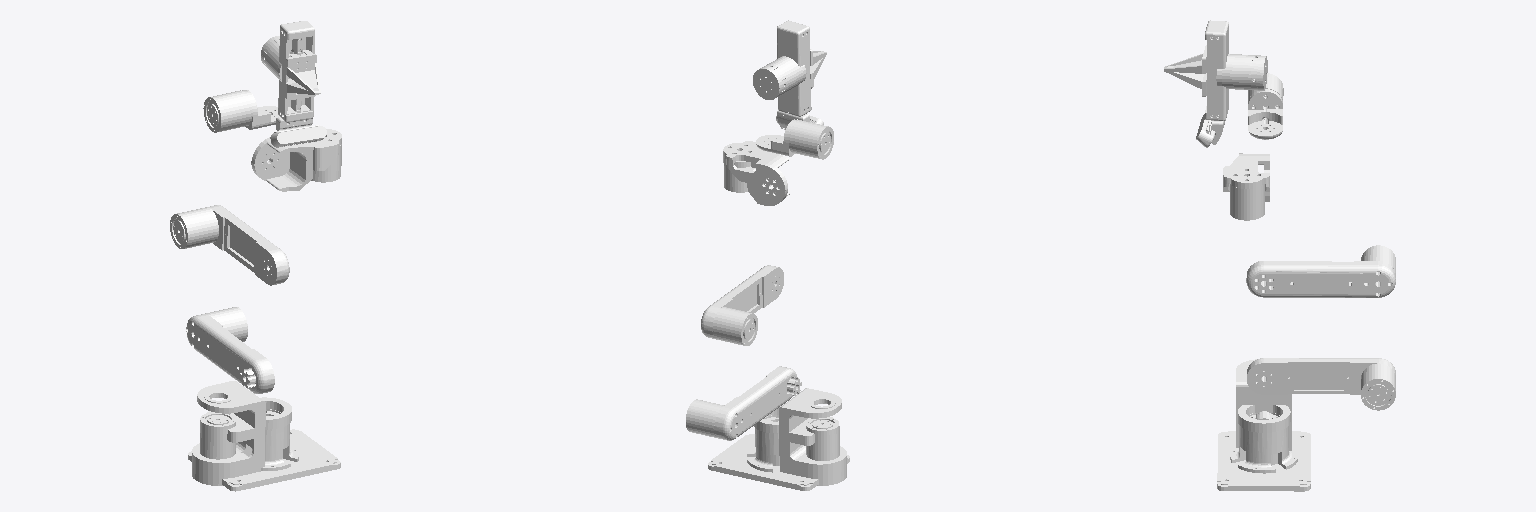
The robot description file, URDF, robot "miku_arm":
<?xml version="1.0" encoding="utf-8"?>
<!-- This URDF was automatically created by SolidWorks to URDF Exporter! Originally created by Stephen Brawner (brawner@gmail.com) 
     Commit Version: 1.6.0-4-g7f85cfe  Build Version: 1.6.7995.38578
     For more information, please see http://wiki.ros.org/sw_urdf_exporter -->
<robot
  name="miku_arm">
  <link
    name="base_link">
    <inertial>
      <origin
        xyz="0.010645 -0.010486 1.5689E-05"
        rpy="0 0 0" />
      <mass
        value="0.65234" />
      <inertia
        ixx="0.00083423"
        ixy="2.0603E-05"
        ixz="-2.48E-06"
        iyy="0.0018578"
        iyz="4.4884E-07"
        izz="0.0012592" />
    </inertial>
    <visual>
      <origin
        xyz="0 0 0"
        rpy="0 0 0" />
      <geometry>
        <mesh
          filename="package://arm_control/meshes/base_link.STL" />
      </geometry>
      <material
        name="">
        <color
          rgba="1 1 1 1" />
      </material>
    </visual>
    <collision>
      <origin
        xyz="0 0 0"
        rpy="0 0 0" />
      <geometry>
        <mesh
          filename="package://arm_control/meshes/base_link.STL" />
      </geometry>
    </collision>
  </link>
  <link
    name="link_1">
    <inertial>
      <origin
        xyz="0.010197 0.067289 0.00068246"
        rpy="0 0 0" />
      <mass
        value="0.69243" />
      <inertia
        ixx="0.00082897"
        ixy="-0.00021255"
        ixz="-1.0958E-05"
        iyy="0.0013747"
        iyz="1.0531E-05"
        izz="0.0014367" />
    </inertial>
    <visual>
      <origin
        xyz="0 0 0"
        rpy="0 0 0" />
      <geometry>
        <mesh
          filename="package://arm_control/meshes/link_1.STL" />
      </geometry>
      <material
        name="">
        <color
          rgba="1 1 1 1" />
      </material>
    </visual>
    <collision>
      <origin
        xyz="0 0 0"
        rpy="0 0 0" />
      <geometry>
        <mesh
          filename="package://arm_control/meshes/link_1.STL" />
      </geometry>
    </collision>
  </link>
  <joint
    name="joint_1"
    type="revolute">
    <origin
      xyz="0.011371 -3.9704E-05 0.025603"
      rpy="1.5507 0.00054808 -1.5767" />
    <parent
      link="base_link" />
    <child
      link="link_1" />
    <axis
      xyz="0 1 0" />
    <limit
      lower="-2.3562"
      upper="2.3562"
      effort="9"
      velocity="2" />
  </joint>
  <link
    name="link_2">
    <inertial>
      <origin
        xyz="0.11068 0.034869 1.069E-08"
        rpy="0 0 0" />
      <mass
        value="0.68644" />
      <inertia
        ixx="0.00023475"
        ixy="1.5737E-05"
        ixz="-6.862E-11"
        iyy="0.0027619"
        iyz="-1.4098E-10"
        izz="0.0026635" />
    </inertial>
    <visual>
      <origin
        xyz="0 0 0"
        rpy="0 0 0" />
      <geometry>
        <mesh
          filename="package://arm_control/meshes/link_2.STL" />
      </geometry>
      <material
        name="">
        <color
          rgba="1 1 1 1" />
      </material>
    </visual>
    <collision>
      <origin
        xyz="0 0 0"
        rpy="0 0 0" />
      <geometry>
        <mesh
          filename="package://arm_control/meshes/link_2.STL" />
      </geometry>
    </collision>
  </link>
  <joint
    name="joint_2"
    type="revolute">
    <origin
      xyz="0 0.08788 0"
      rpy="0 0 1.5708" />
    <parent
      link="link_1" />
    <child
      link="link_2" />
    <axis
      xyz="0 1 0" />
    <limit
      lower="-1.5708"
      upper="1.5708"
      effort="9"
      velocity="2" />
  </joint>
  <link
    name="link_3">
    <inertial>
      <origin
        xyz="0.110053650868383 0.0335164692750554 1.94705920449068E-08"
        rpy="0 0 0" />
      <mass
        value="0.737398995126995" />
      <inertia
        ixx="0.000251131834416106"
        ixy="-1.0602383826204E-06"
        ixz="-6.40044512792178E-11"
        iyy="0.00296672370630292"
        iyz="-2.37049058445746E-10"
        izz="0.00285224309005797" />
    </inertial>
    <visual>
      <origin
        xyz="0 0 0"
        rpy="0 0 0" />
      <geometry>
        <mesh
          filename="package://arm_control/meshes/link_3.STL" />
      </geometry>
      <material
        name="">
        <color
          rgba="1 1 1 1" />
      </material>
    </visual>
    <collision>
      <origin
        xyz="0 0 0"
        rpy="0 0 0" />
      <geometry>
        <mesh
          filename="package://arm_control/meshes/link_3.STL" />
      </geometry>
    </collision>
  </link>
  <joint
    name="joint_3"
    type="revolute">
    <origin
      xyz="0.184 0 0"
      rpy="3.1416 0 0" />
    <parent
      link="link_2" />
    <child
      link="link_3" />
    <axis
      xyz="0 1 0" />
    <limit
      lower="-1.5708"
      upper="1.5708"
      effort="9"
      velocity="2" />
  </joint>
  <link
    name="link_4">
    <inertial>
      <origin
        xyz="0.049628 -0.0075971 0.0074952"
        rpy="0 0 0" />
      <mass
        value="0.60269" />
      <inertia
        ixx="0.00052062"
        ixy="0.00013803"
        ixz="0.00014077"
        iyy="0.00067664"
        iyz="-6.3687E-05"
        izz="0.00068779" />
    </inertial>
    <visual>
      <origin
        xyz="0 0 0"
        rpy="0 0 0" />
      <geometry>
        <mesh
          filename="package://arm_control/meshes/link_4.STL" />
      </geometry>
      <material
        name="">
        <color
          rgba="1 1 1 1" />
      </material>
    </visual>
    <collision>
      <origin
        xyz="0 0 0"
        rpy="0 0 0" />
      <geometry>
        <mesh
          filename="package://arm_control/meshes/link_4.STL" />
      </geometry>
    </collision>
  </link>
  <joint
    name="joint_4"
    type="revolute">
    <origin
      xyz="0.184 0 0"
      rpy="1.5708 0 0" />
    <parent
      link="link_3" />
    <child
      link="link_4" />
    <axis
      xyz="0 0 1" />
    <limit
      lower="-1.5708"
      upper="1.5708"
      effort="9"
      velocity="2" />
  </joint>
  <link
    name="link_5">
    <inertial>
      <origin
        xyz="-0.0603 -0.014918 -1.3904E-09"
        rpy="0 0 0" />
      <mass
        value="0.20932" />
      <inertia
        ixx="8.7973E-05"
        ixy="9.7337E-06"
        ixz="8.3843E-13"
        iyy="0.00010977"
        iyz="-4.0408E-13"
        izz="0.00010465" />
    </inertial>
    <visual>
      <origin
        xyz="0 0 0"
        rpy="0 0 0" />
      <geometry>
        <mesh
          filename="package://arm_control/meshes/link_5.STL" />
      </geometry>
      <material
        name="">
        <color
          rgba="1 1 1 1" />
      </material>
    </visual>
    <collision>
      <origin
        xyz="0 0 0"
        rpy="0 0 0" />
      <geometry>
        <mesh
          filename="package://arm_control/meshes/link_5.STL" />
      </geometry>
    </collision>
  </link>
  <joint
    name="joint_5"
    type="revolute">
    <origin
      xyz="0.0815 0 0.0025"
      rpy="0 0 -3.1416" />
    <parent
      link="link_4" />
    <child
      link="link_5" />
    <axis
      xyz="0 -1 0" />
    <limit
      lower="-1.5708"
      upper="1.5708"
      effort="9"
      velocity="2" />
  </joint>
  <link
    name="link_6">
    <inertial>
      <origin
        xyz="-1.5722E-10 0.016911 -1.5926E-10"
        rpy="0 0 0" />
      <mass
        value="0.027017" />
      <inertia
        ixx="1.0603E-05"
        ixy="8.2392E-15"
        ixz="4.9083E-15"
        iyy="5.8416E-06"
        iyz="5.3079E-14"
        izz="1.0603E-05" />
    </inertial>
    <visual>
      <origin
        xyz="0 0 0"
        rpy="0 0 0" />
      <geometry>
        <mesh
          filename="package://arm_control/meshes/link_6.STL" />
      </geometry>
      <material
        name="">
        <color
          rgba="1 1 1 1" />
      </material>
    </visual>
    <collision>
      <origin
        xyz="0 0 0"
        rpy="0 0 0" />
      <geometry>
        <mesh
          filename="package://arm_control/meshes/link_6.STL" />
      </geometry>
    </collision>
  </link>
  <joint
    name="joint_6"
    type="revolute">
    <origin
      xyz="-0.10372 -0.0105 0"
      rpy="-3.1416 0.11723 -1.5708" />
    <parent
      link="link_5" />
    <child
      link="link_6" />
    <axis
      xyz="0 1 0" />
    <limit
      lower="-2.3562"
      upper="2.3562"
      effort="9"
      velocity="2" />
  </joint>
</robot>

--- Render facts (derived) ---
Views: 3 orthographic renders of the robot side by side, from view 1: azimuth 30°, elevation 25°; view 2: azimuth 150°, elevation 25°; view 3: azimuth 270°, elevation 25°.
Robot: miku_arm — 7 links, 6 joints (6 revolute); root link base_link; default pose: every joint at zero.
Visible links, largest first — view 1: link_1, link_6, link_3, base_link, link_2, link_4, link_5; view 2: link_1, link_6, link_2, link_3, base_link, link_4, link_5; view 3: base_link, link_3, link_2, link_6, link_4, link_5, link_1.
Boxes of the visible links, x1,y1,x2,y2 form: link_1: (192, 381, 265, 485); link_6: (261, 21, 326, 147); link_3: (170, 205, 289, 285); base_link: (188, 397, 340, 491); link_2: (186, 307, 274, 393); link_4: (251, 129, 341, 191); link_5: (203, 90, 279, 132); link_1: (778, 388, 846, 485); link_6: (753, 20, 826, 129); link_2: (686, 366, 801, 440); link_3: (701, 265, 783, 345); base_link: (708, 404, 849, 490); link_4: (723, 141, 789, 205); link_5: (756, 119, 833, 159); base_link: (1217, 405, 1310, 491); link_3: (1246, 245, 1395, 297); link_2: (1247, 358, 1395, 410); link_6: (1164, 20, 1267, 147); link_4: (1223, 153, 1269, 220); link_5: (1248, 73, 1283, 139); link_1: (1236, 359, 1291, 450).
Size in the robot's own frame: 0.2469 by 0.3745 by 0.7873 metres.
7 mesh visuals loaded from 7 distinct referenced files (7 binary STL).
